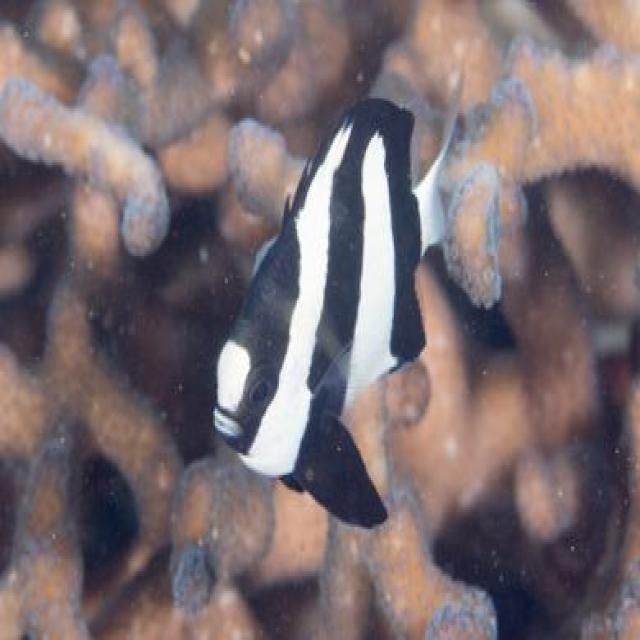Three_striped DasmselFish: (207, 57, 474, 533)
